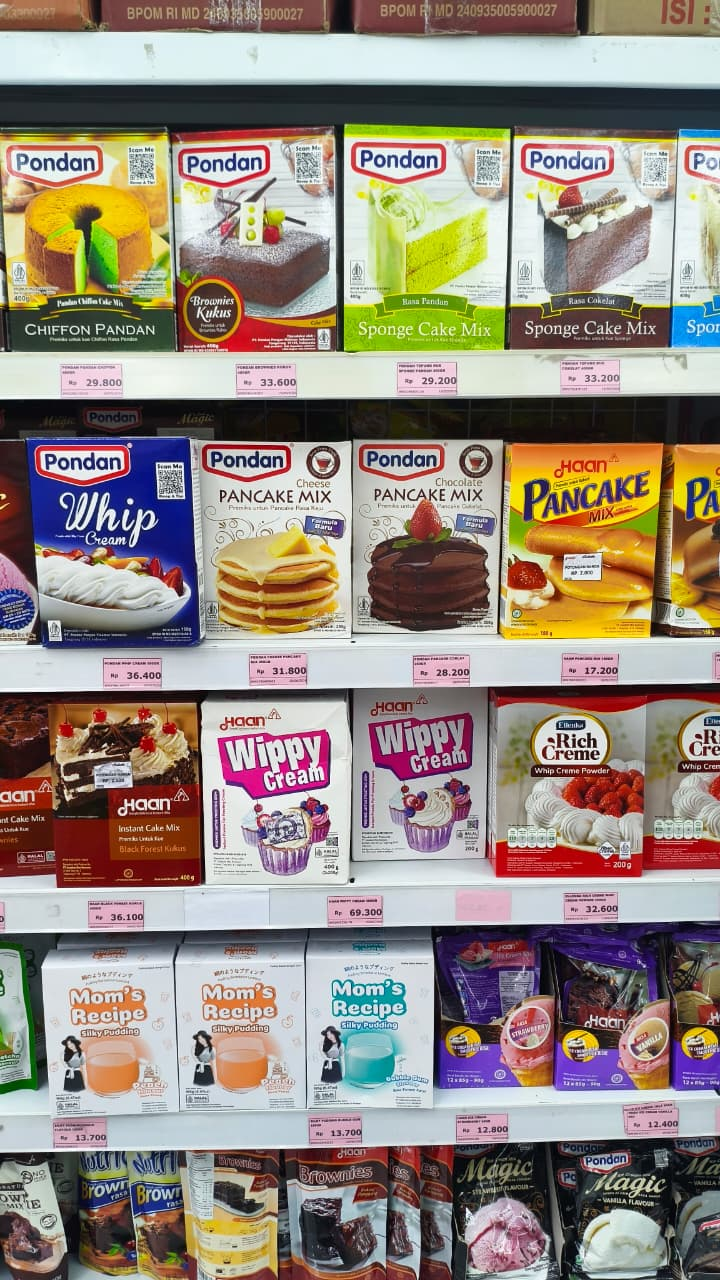Mom's Recipe: (303, 930, 440, 1085)
Pancake: (507, 432, 659, 617)
Pondan: (167, 119, 290, 214), (1, 120, 124, 215), (344, 116, 467, 211), (511, 120, 634, 215)
Whip: (38, 471, 189, 572)
Wippy Cream: (193, 682, 340, 854)
